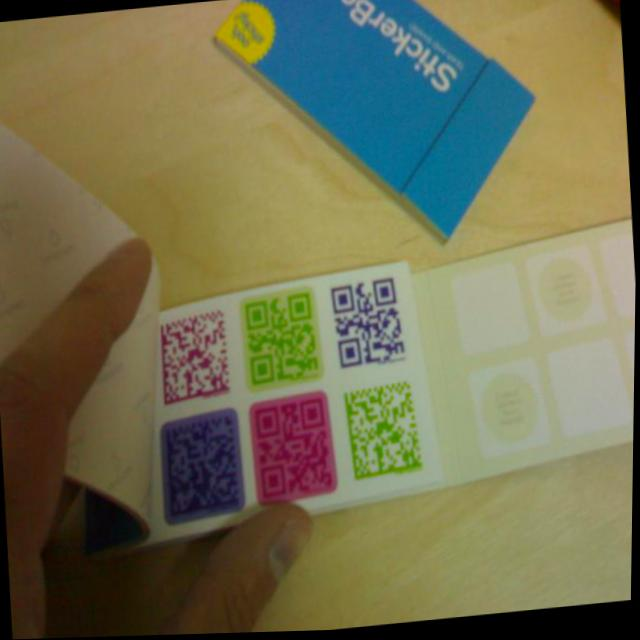qrcode: (256, 399, 336, 501), (245, 293, 323, 388), (330, 278, 409, 371)
